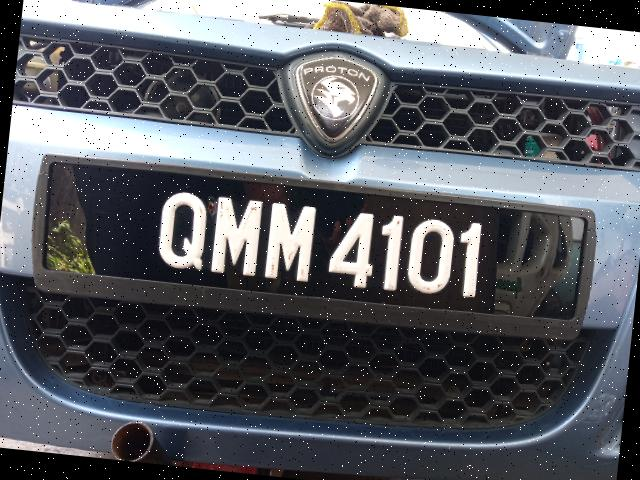License_Plate: (38, 160, 591, 329)
